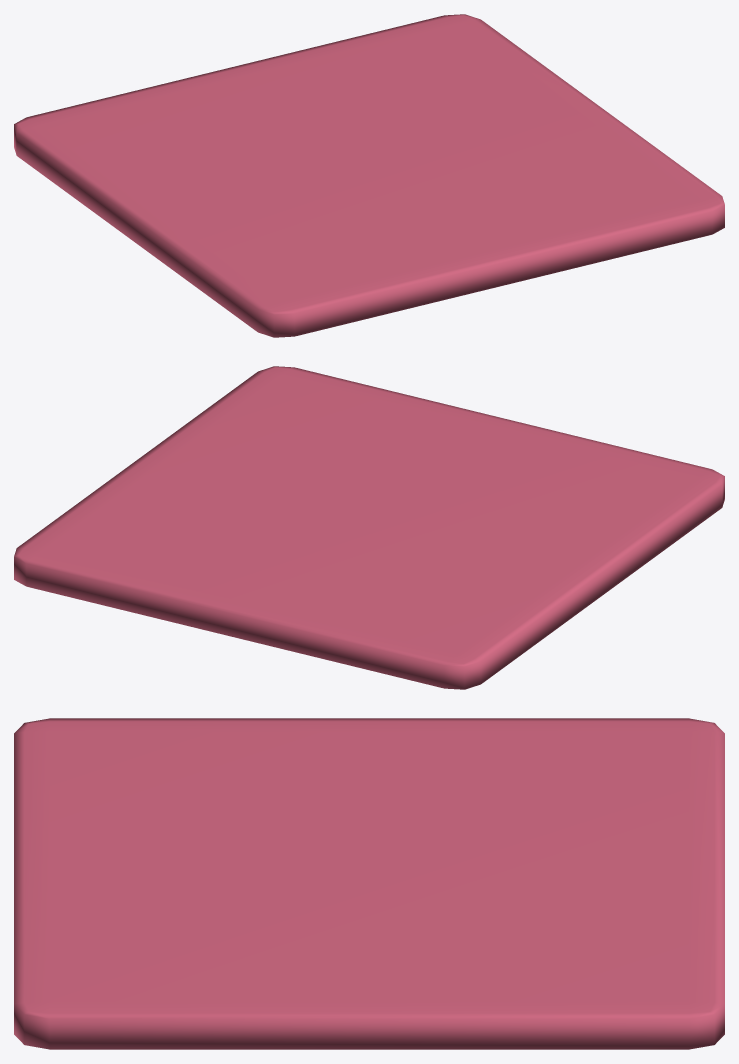
File: podlogakursormoje.gltf
3 renders of one model, top to bottom at view 1: azimuth 30°, elevation 25°; view 2: azimuth 150°, elevation 25°; view 3: azimuth 270°, elevation 25°, orthographic. The views are drawn at different scales.
Parts seen in each view (by area): view 1: Cube.001; view 2: Cube.001; view 3: Cube.001.
Boxes of the visible parts, bbox=[...] form: Cube.001: bbox=[14, 14, 724, 337]; Cube.001: bbox=[14, 366, 724, 689]; Cube.001: bbox=[14, 718, 724, 1049].
Size of the model in its own units: 30 by 1.58 by 30.
